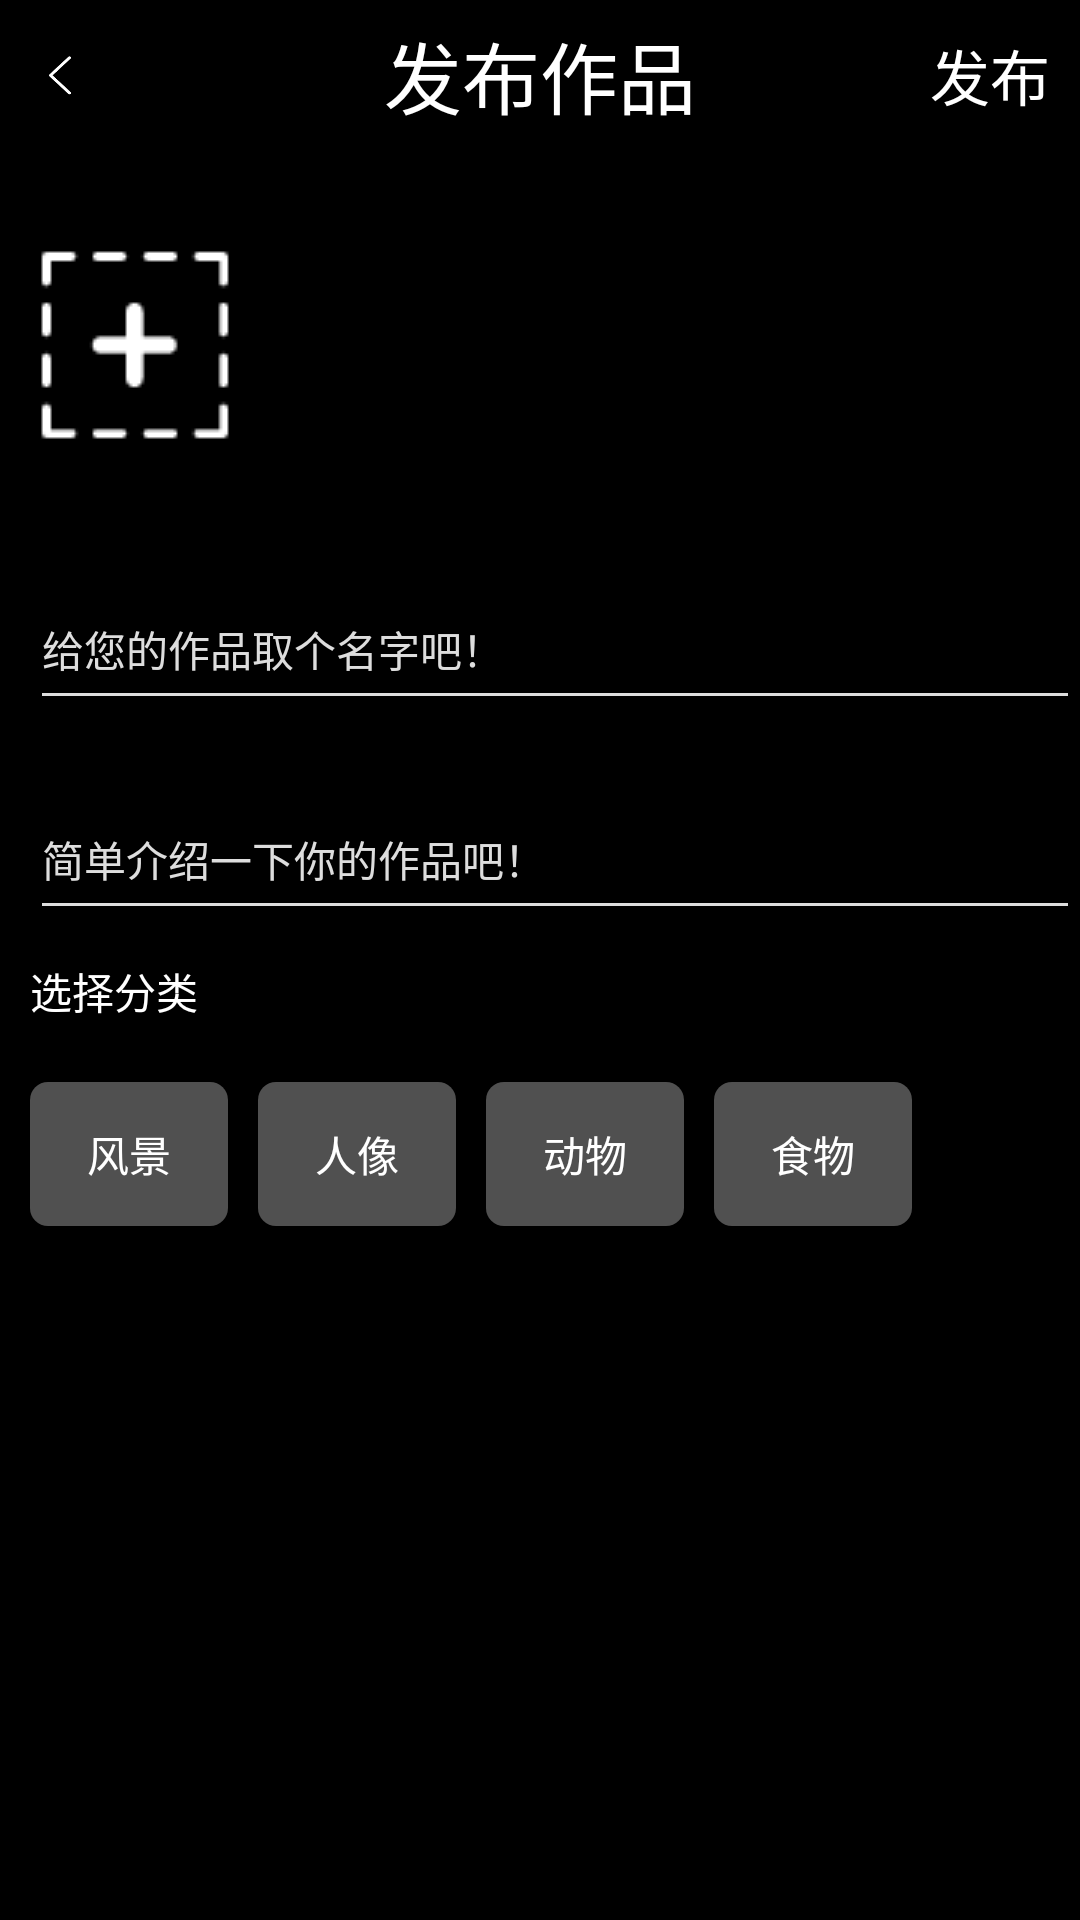

Icons on this 1080 × 1920 Android screen, each with the point to tap as (x=x, y=y):
add: (x=135, y=345)
back: (x=60, y=75)
